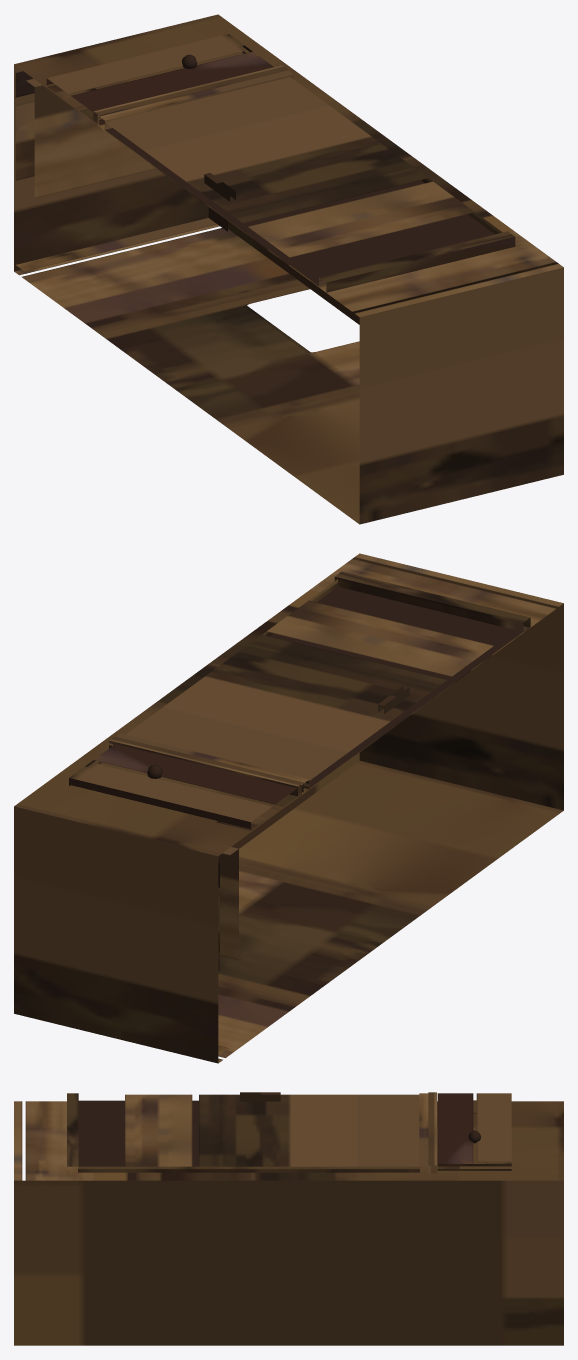
The model's file is section-3.obj.
3 views of the same model, one above another, from view 1: azimuth 30°, elevation 25°; view 2: azimuth 150°, elevation 25°; view 3: azimuth 270°, elevation 25° (orthographic). The views are drawn at different scales.
Size of the model in its own units: 0.7355 by 0.7845 by 2.15.
